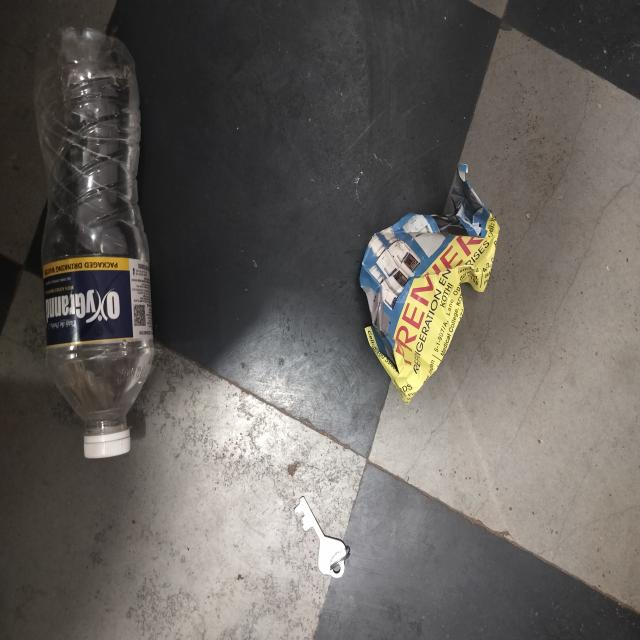metal: (277, 476, 366, 610)
paper: (339, 140, 523, 442)
plastic: (21, 11, 166, 469)
